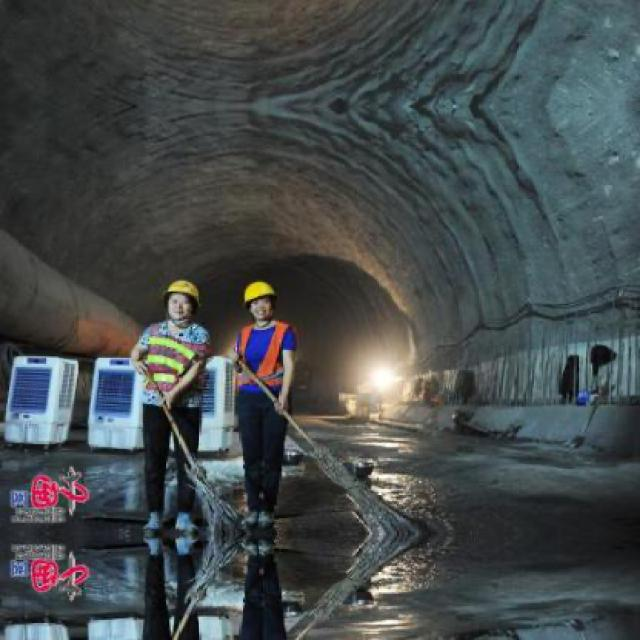con casco: (159, 269, 230, 333), (233, 270, 295, 330)
